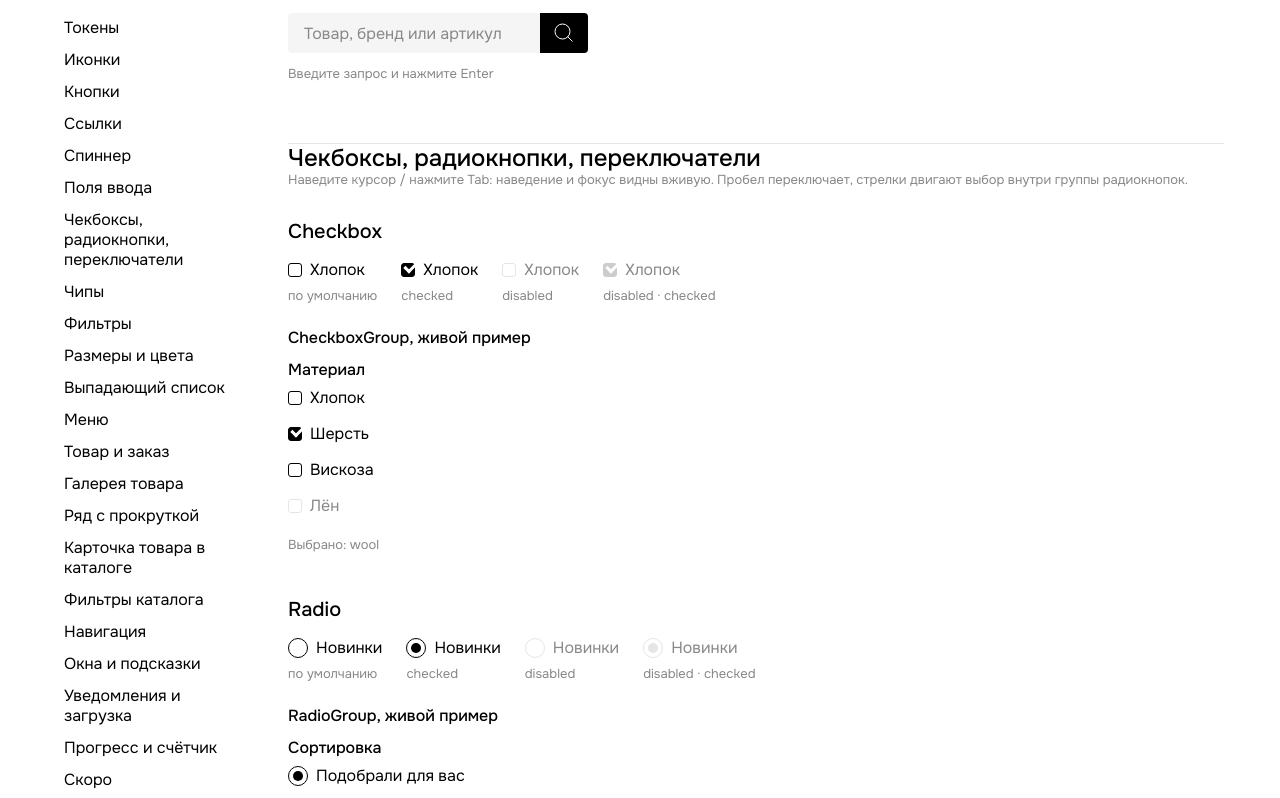
checkbox group demo › updates the picked values on interaction and says when none are picked
(page scrolled)
Click the 5th text "Хлопок" at {"x": 337, "y": 398}, box [310,388,365,408]
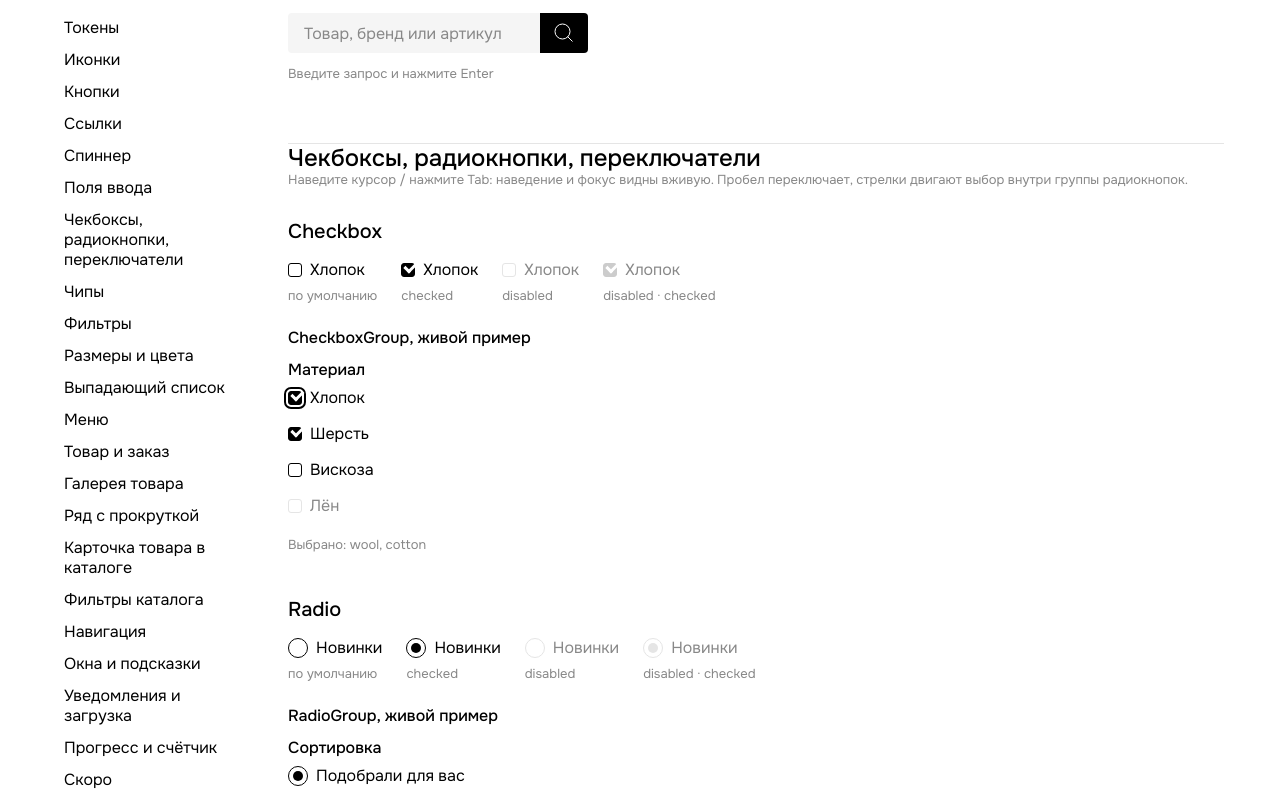
Expected: the text "Выбрано: wool, cotton" is shown, [288,537,426,553]
Click the checkbox named "Шерсть" next to "Шерсть" at {"x": 295, "y": 434}, box [288,427,302,441]
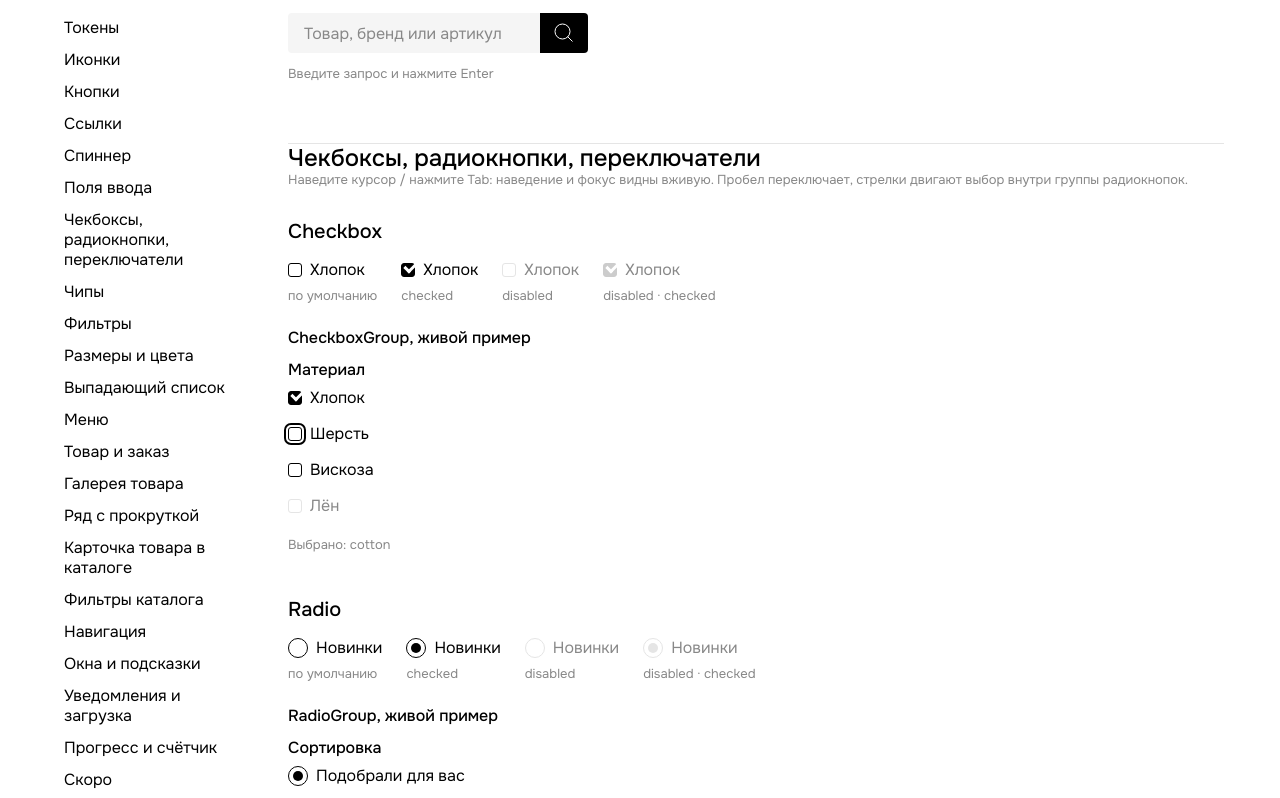
Click the 5th checkbox named "Хлопок" at {"x": 295, "y": 398}, box [288,391,302,405]
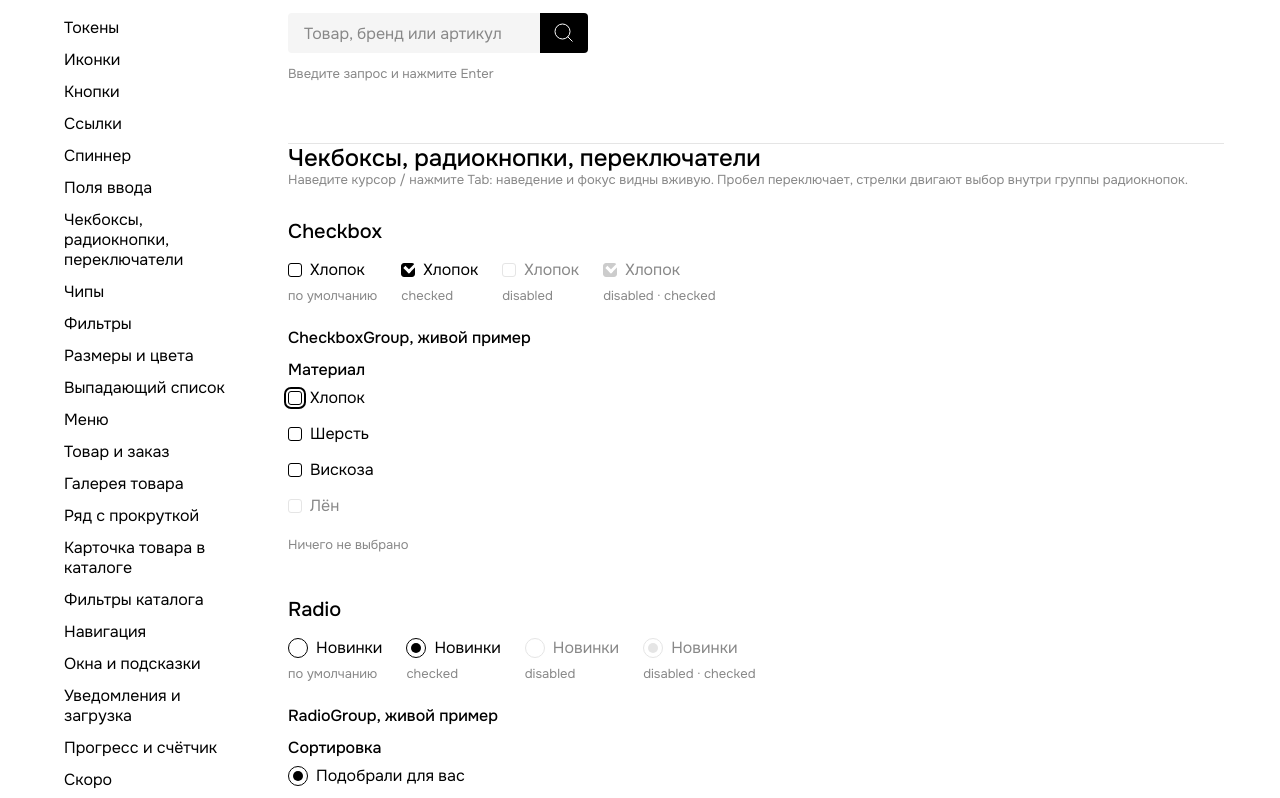
Expected: the text "Ничего не выбрано" is shown, [288,537,408,553]
